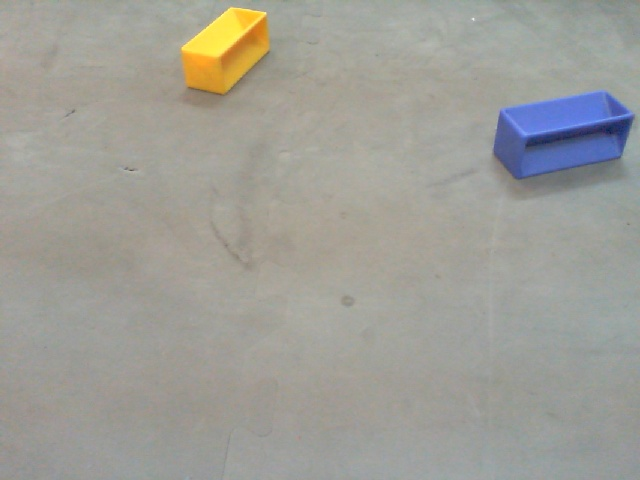BlueSample: (492, 88, 635, 183)
YellowSample: (178, 5, 274, 97)
